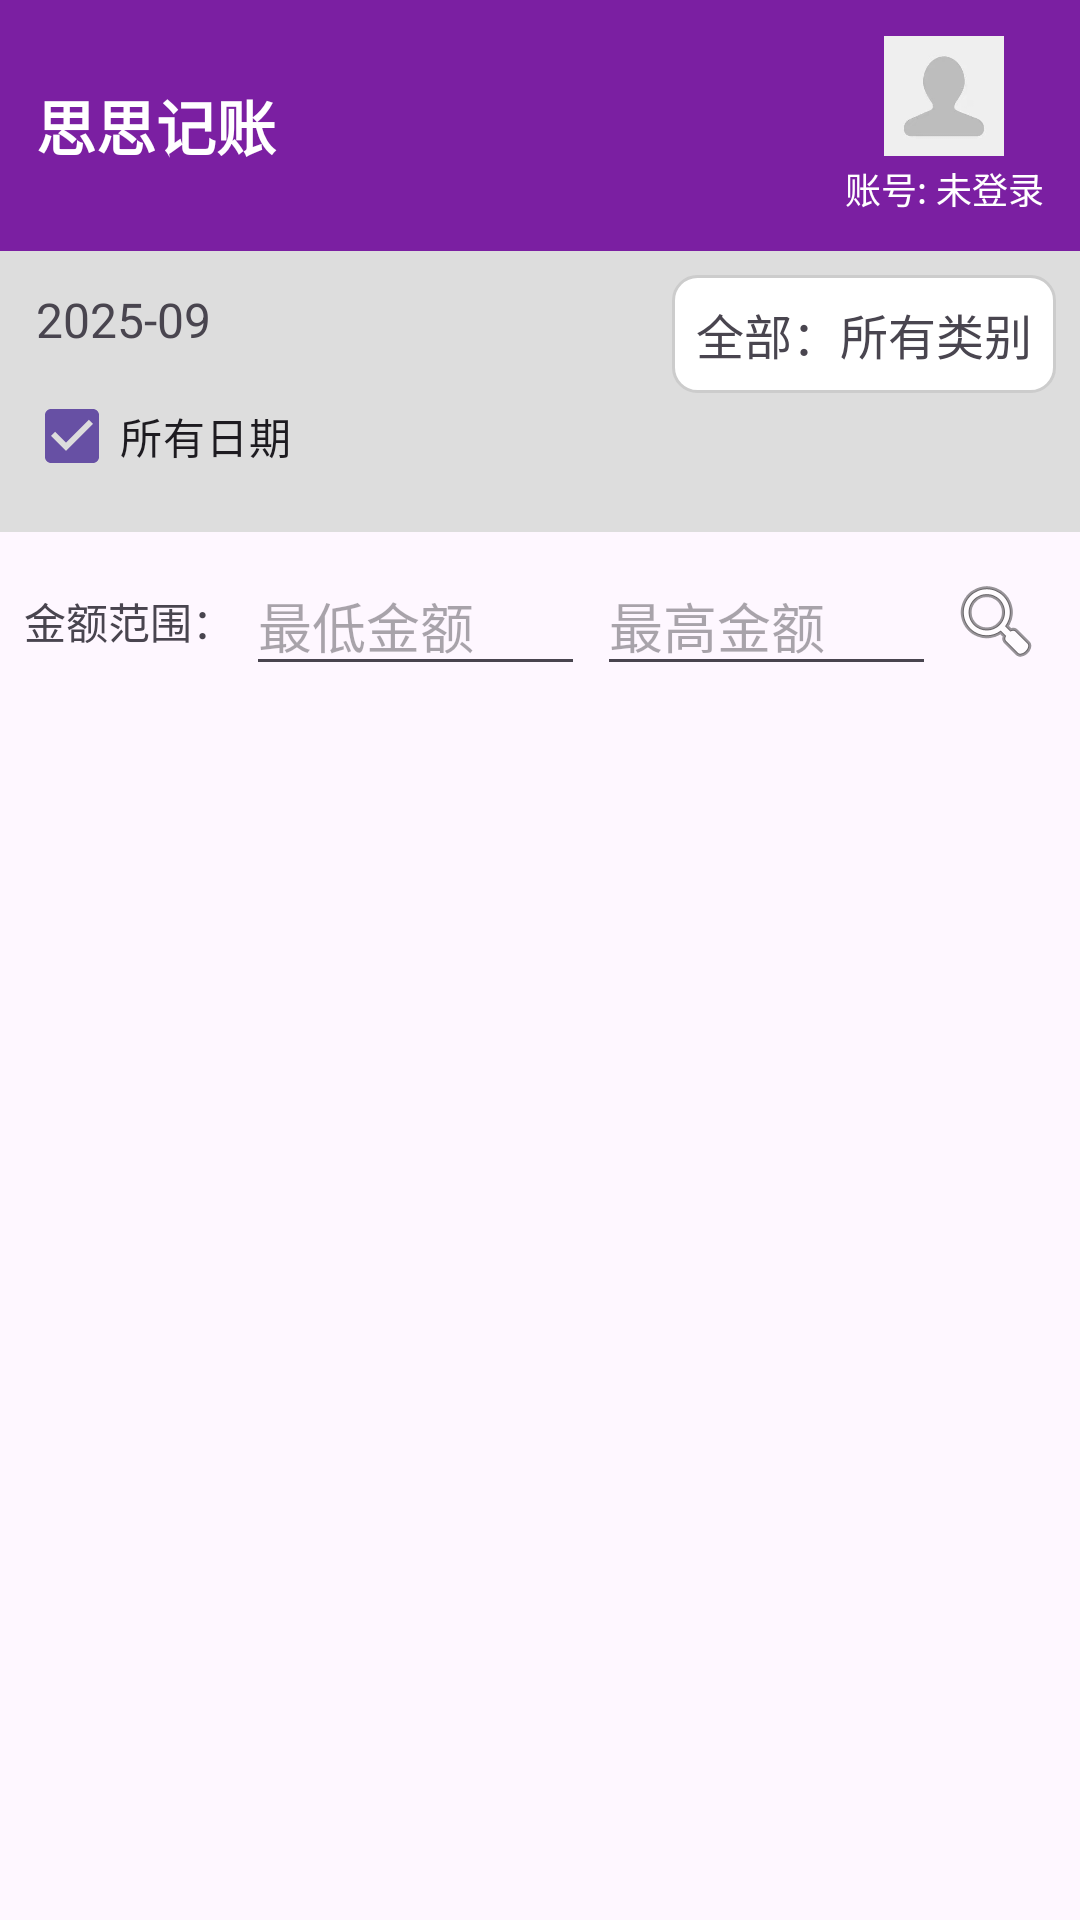

Icons on this 1080x1920 Android screen, each with the point to tap as point (x, y):
search: point (996, 621)
